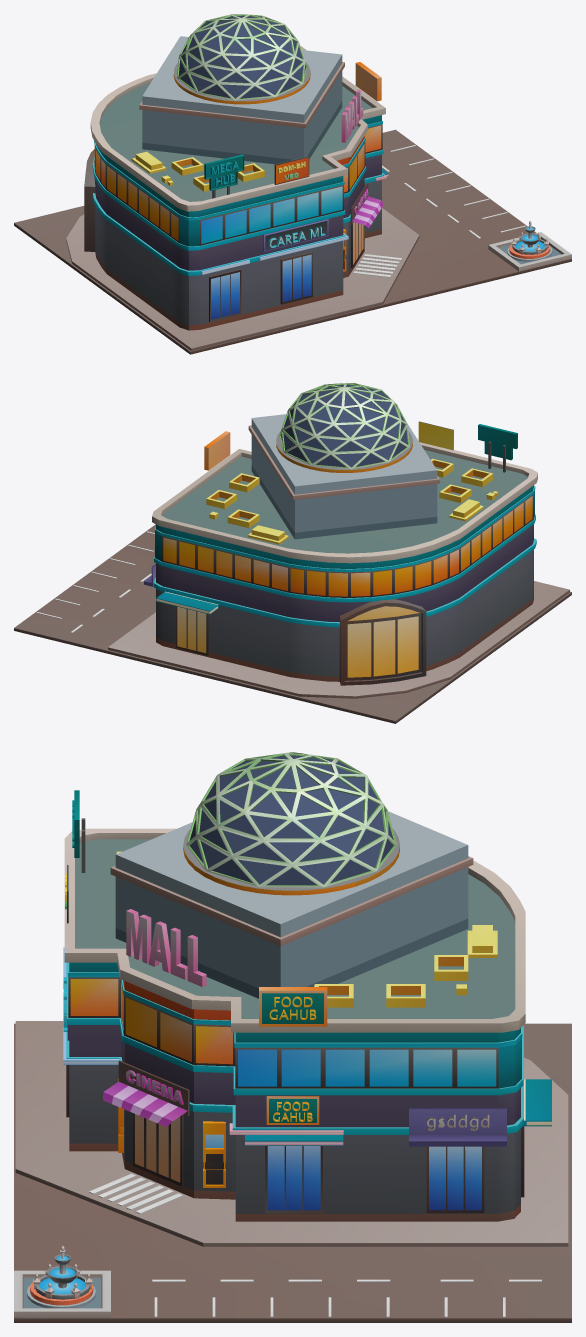
The model's file is Mall_Bullding.fbx.
3 views of the same model, one above another, from view 1: azimuth 30°, elevation 25°; view 2: azimuth 150°, elevation 25°; view 3: azimuth 270°, elevation 25° (orthographic). The views are drawn at different scales.
Visible parts, largest first — view 1: Mall_Bullding; view 2: Mall_Bullding; view 3: Mall_Bullding.
Boxes of the visible parts, bbox=[...] form: Mall_Bullding: bbox=[14, 14, 571, 354]; Mall_Bullding: bbox=[14, 383, 571, 723]; Mall_Bullding: bbox=[14, 752, 571, 1322].
Bounding box in the file's own units: 10 × 5.95 × 8.
